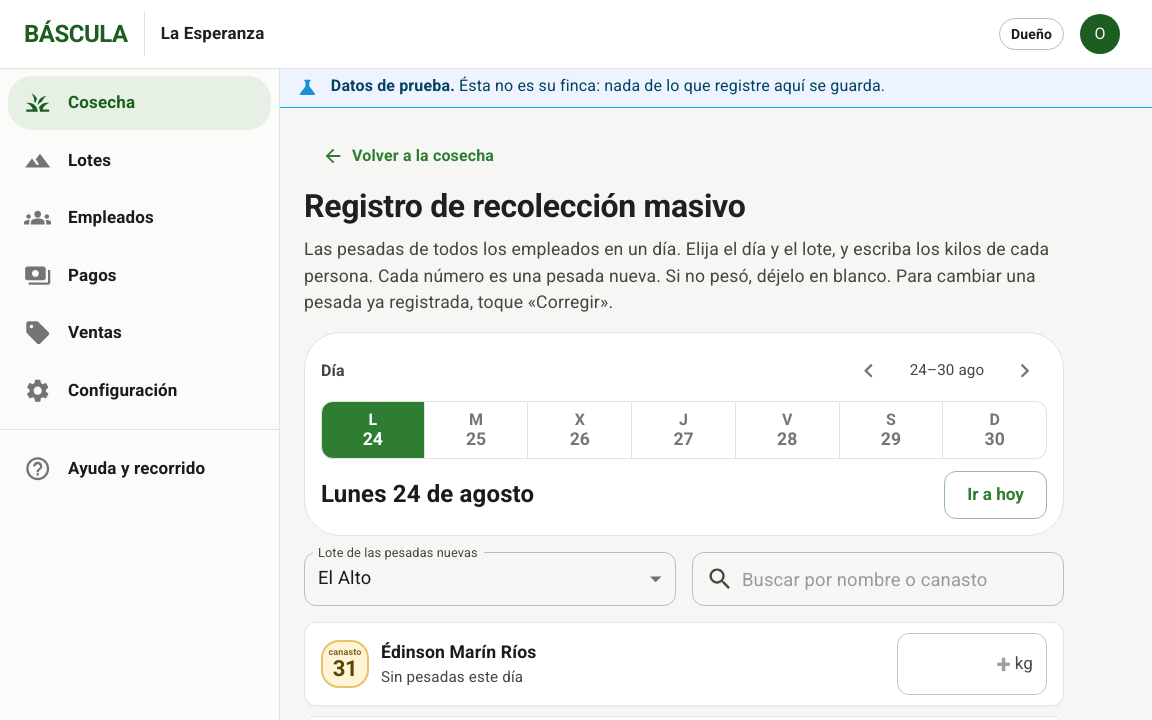
Test: which lote it opens on › the one used last time, and a new choice is remembered
The width and height of the screenshot is (1152, 720).
Click the dropdown named "de las pesadas nuevas" at (345, 577), box [318, 567, 371, 588]
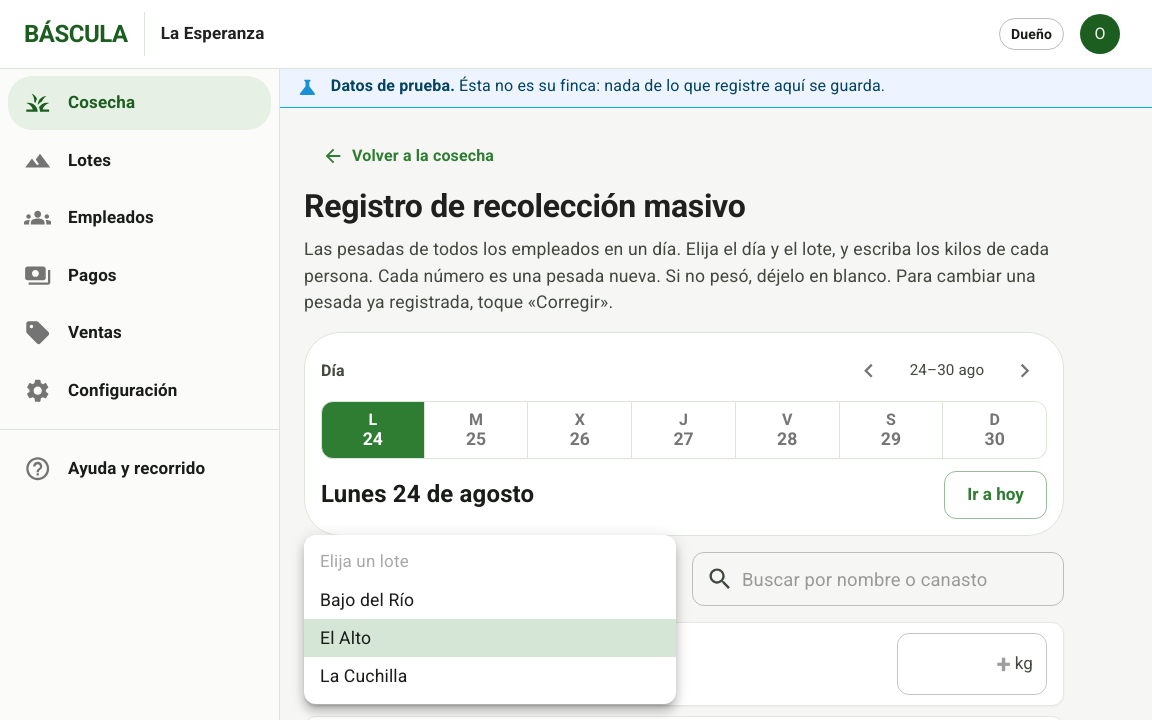
Click the option "La Cuchilla" at (364, 676), box [320, 666, 408, 686]
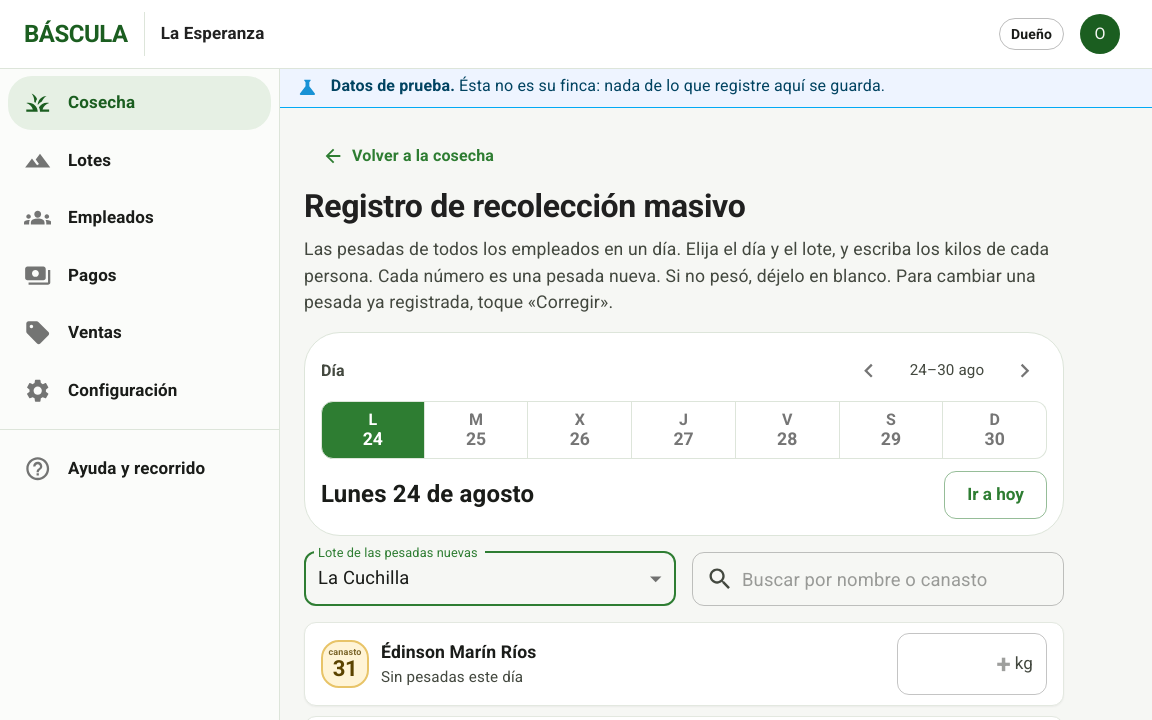
Expected: the dropdown named "de las pesadas nuevas" reads "La Cuchilla", [318, 567, 409, 588]
